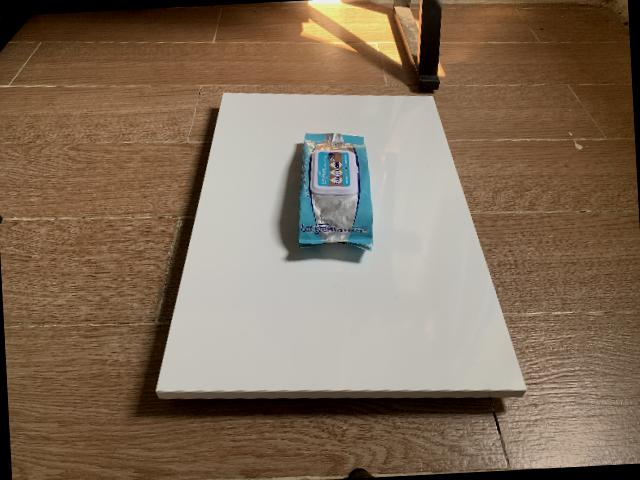Let-green_alcohol_wipes: (298, 133, 373, 252)
